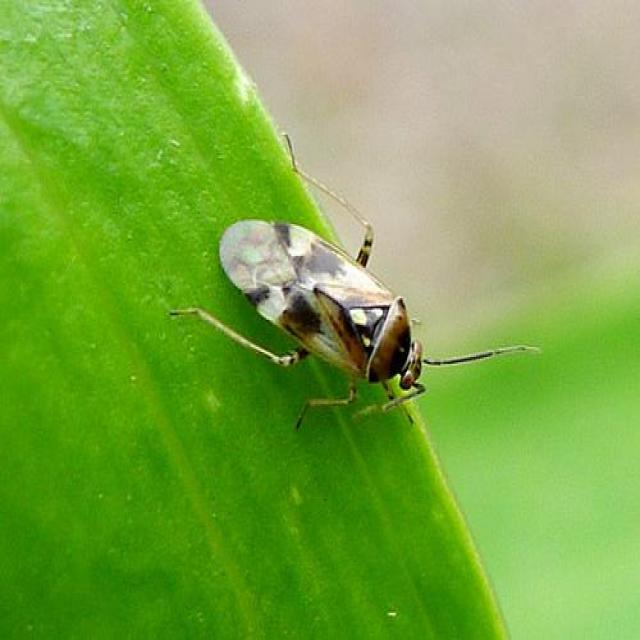Miridae-Adult-: (154, 122, 556, 432)
